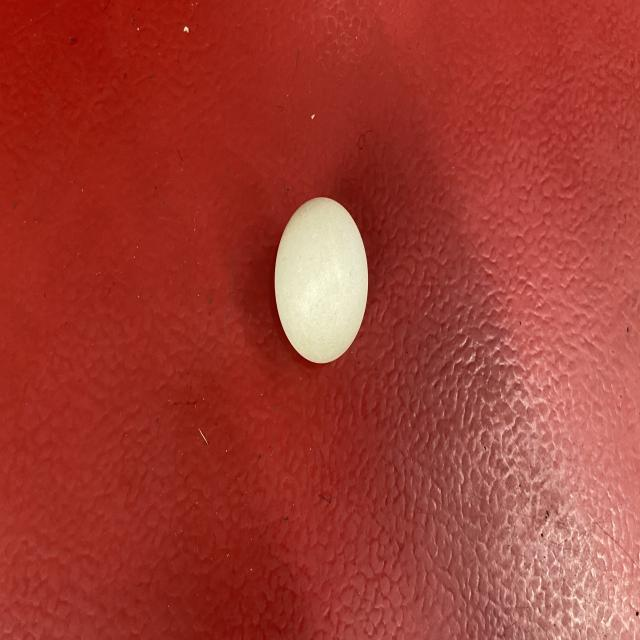ping-pong-ball: (272, 194, 370, 368)
